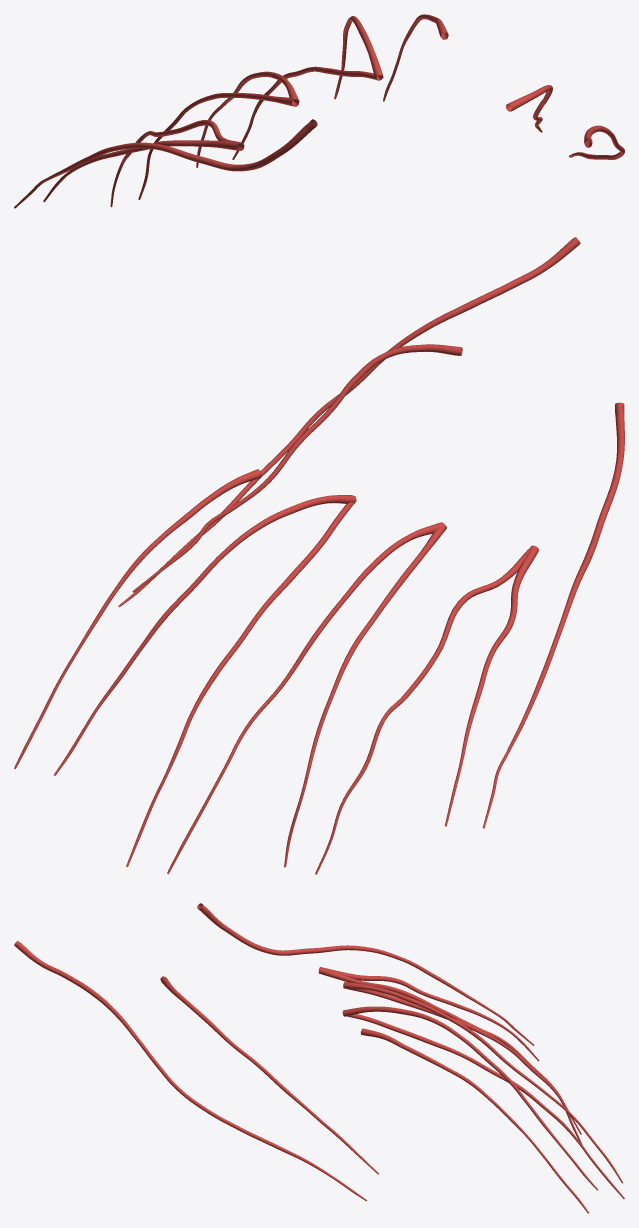
3 views of the same model, one above another, from view 1: azimuth 30°, elevation 25°; view 2: azimuth 150°, elevation 25°; view 3: azimuth 270°, elevation 25° (orthographic). The views are drawn at different scales.
Visible parts, largest first — view 1: 左侧指掌侧固有动脉; view 2: 左侧指掌侧固有动脉; view 3: 左侧指掌侧固有动脉.
Boxes of the visible parts, x1,y1,x2,y2 form: 左侧指掌侧固有动脉: (14, 14, 624, 208); 左侧指掌侧固有动脉: (14, 237, 624, 874); 左侧指掌侧固有动脉: (14, 903, 624, 1213).
Size of the model in its own units: 0.1576 by 0.1052 by 0.2368.
